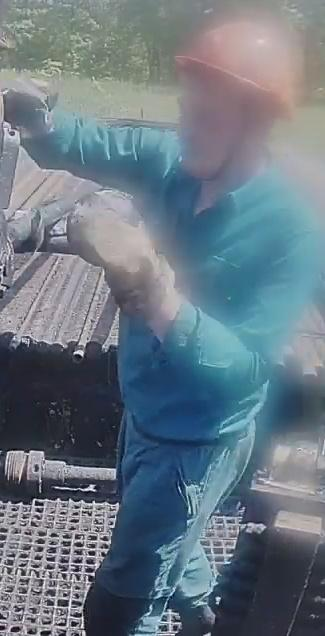gloves: (64, 186, 178, 327), (1, 75, 63, 143)
helmet: (173, 17, 303, 122)
vest: (116, 130, 325, 441)
